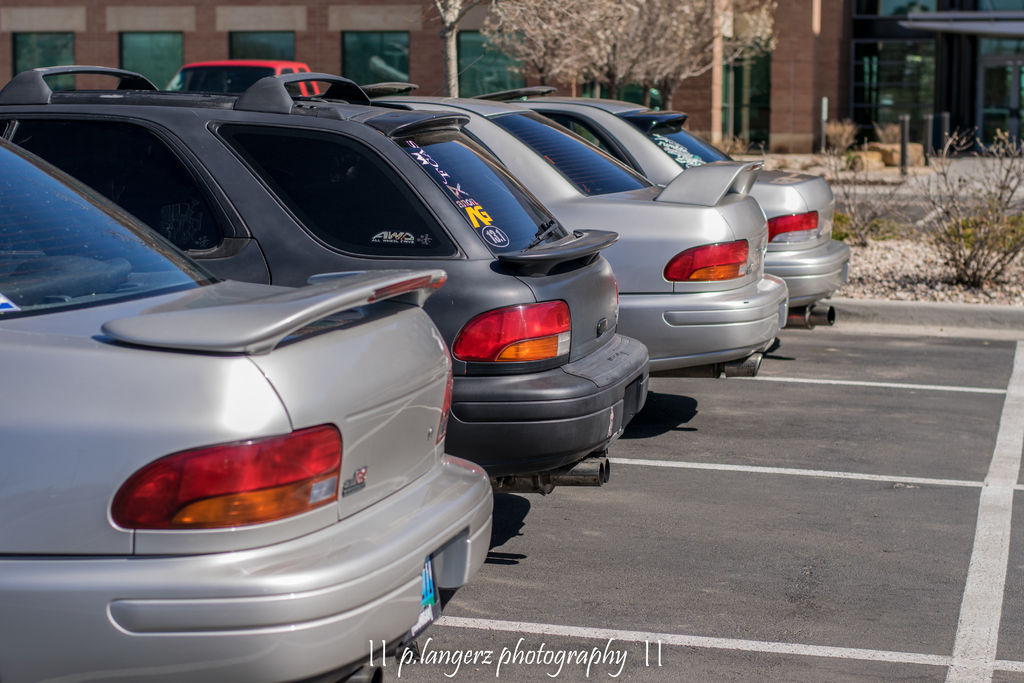Car: (0, 62, 652, 499), (0, 132, 492, 682), (363, 92, 798, 381), (476, 73, 857, 335)
